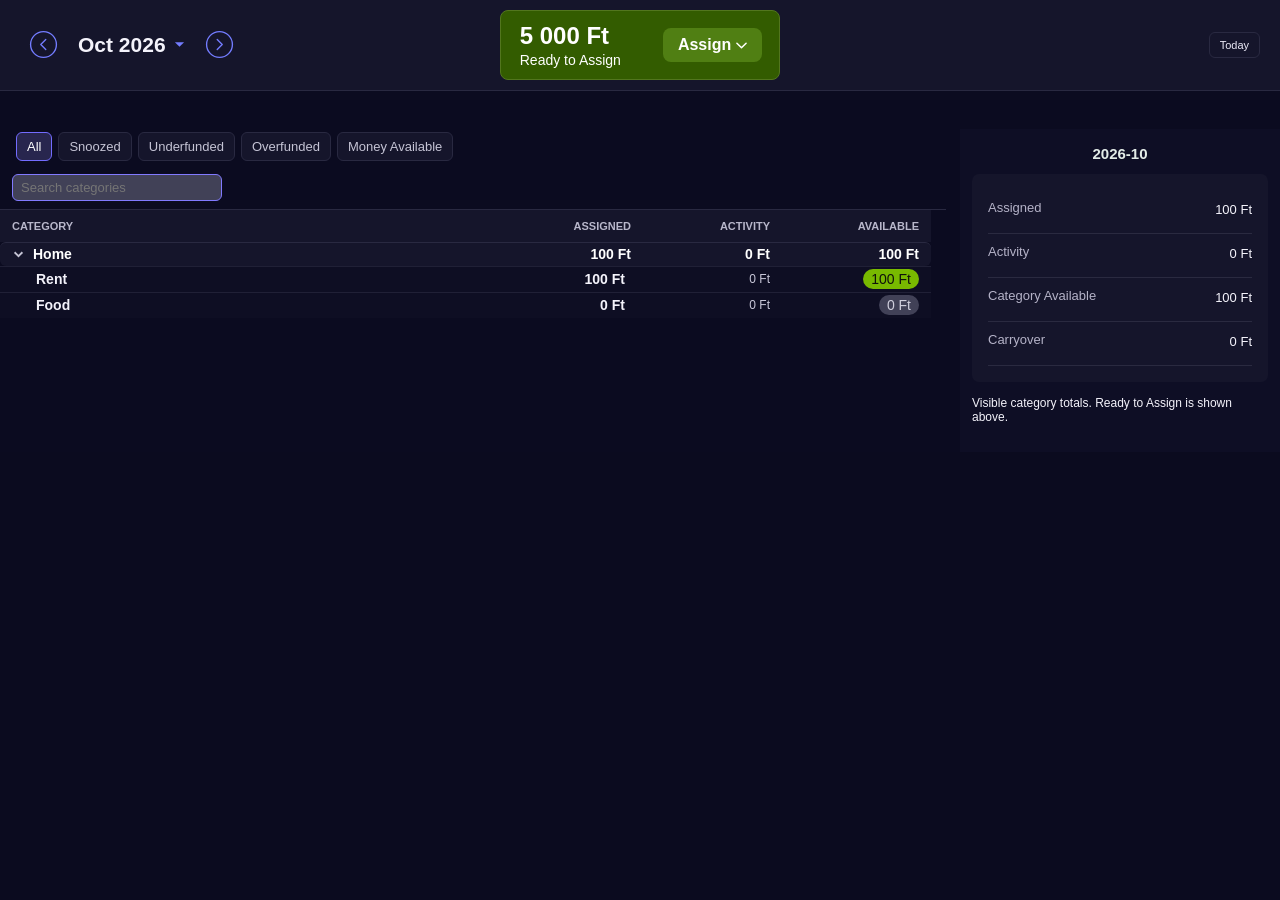
Scenario: retries a failed Plan read after a successful assignment without repeating the assignment
The width and height of the screenshot is (1280, 900).
Click the button "Assign" at (713, 45), box top-left (663, 28), bottom-right (762, 62)
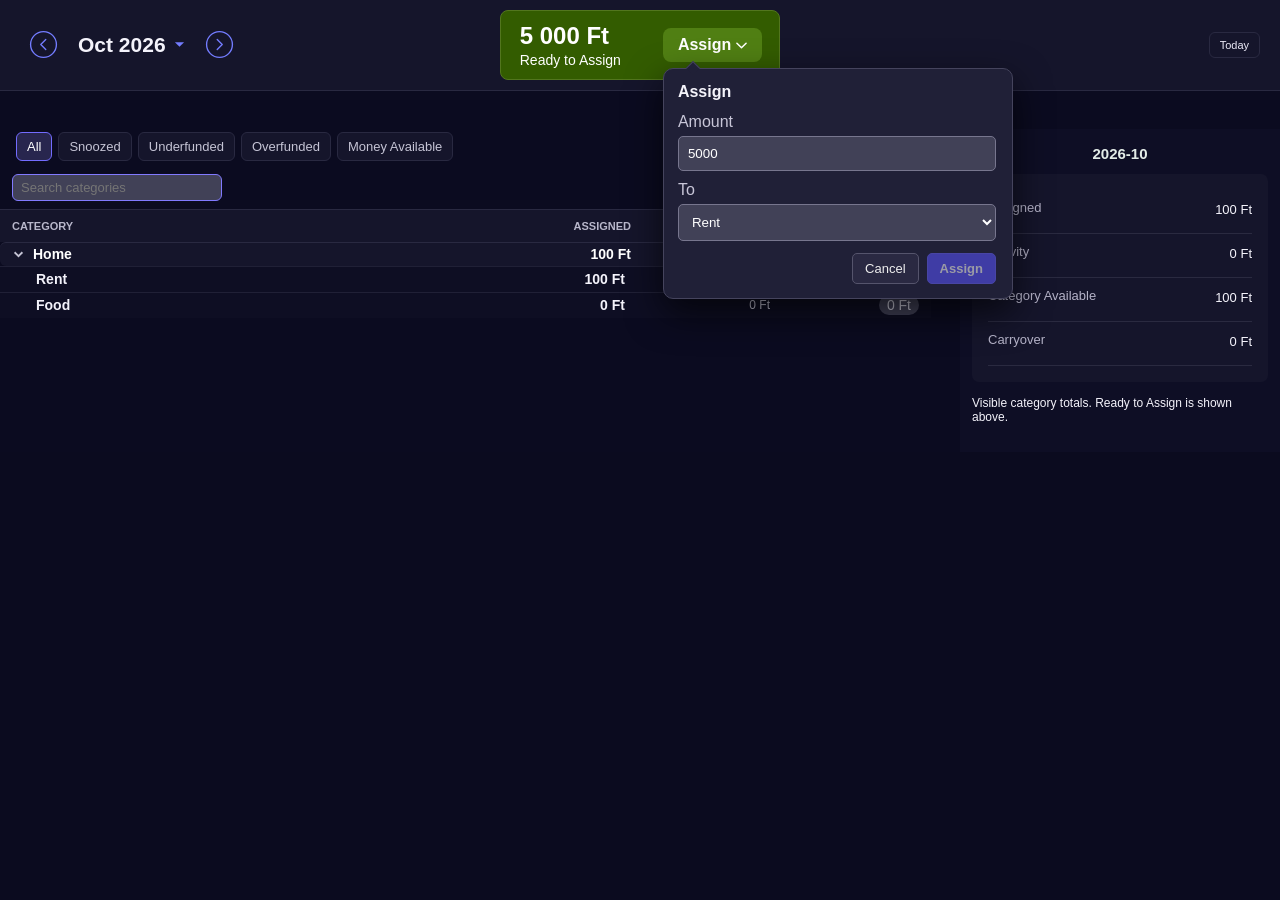
Select "Rent" in the dropdown named "Assign to category" at (837, 222), box top-left (678, 204), bottom-right (996, 241)
Select "Rent" in the dropdown named "Assign to category" at (837, 222), box top-left (678, 204), bottom-right (996, 241)
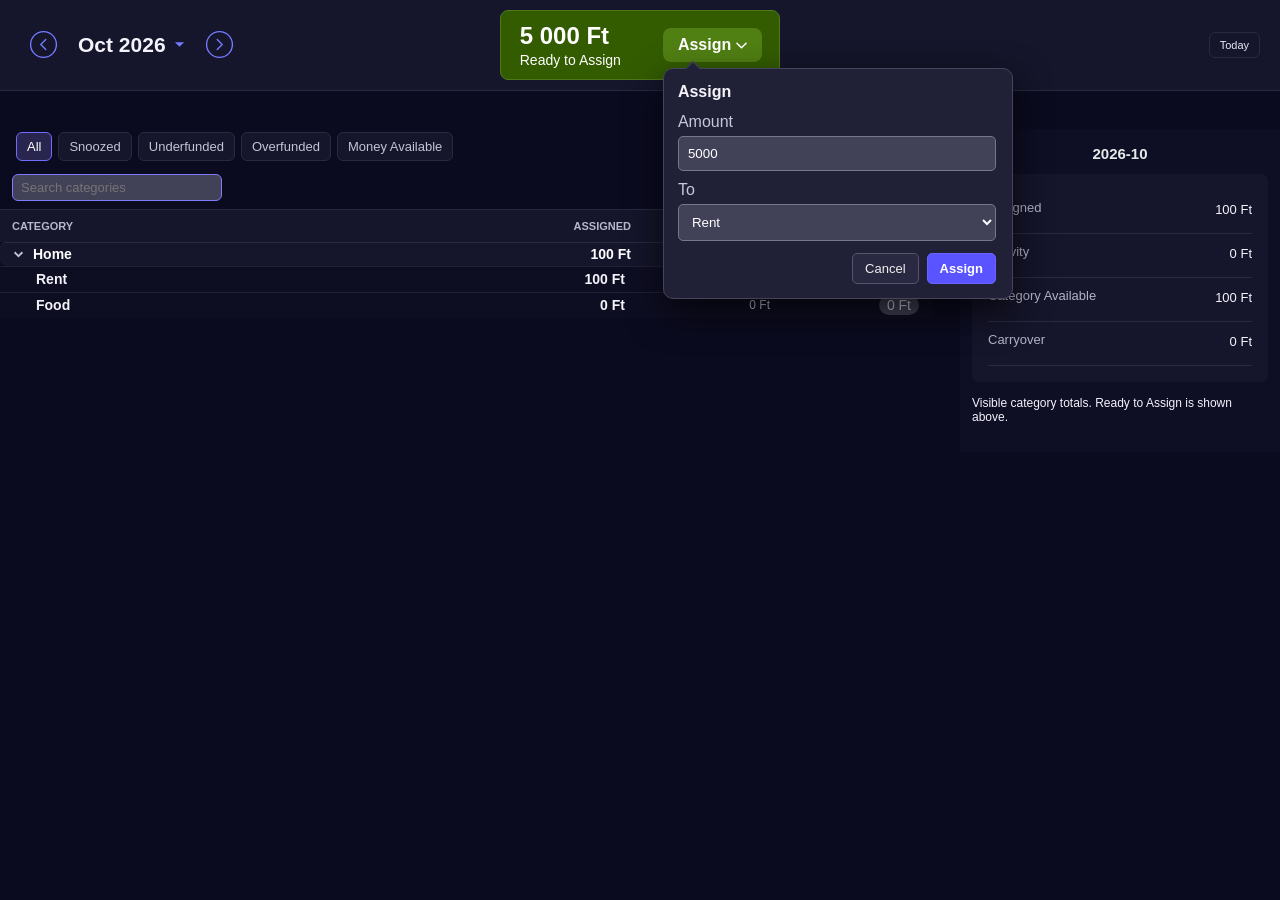
Submit the form with class "rta-assign-scroll", box top-left (678, 113), bottom-right (998, 284)
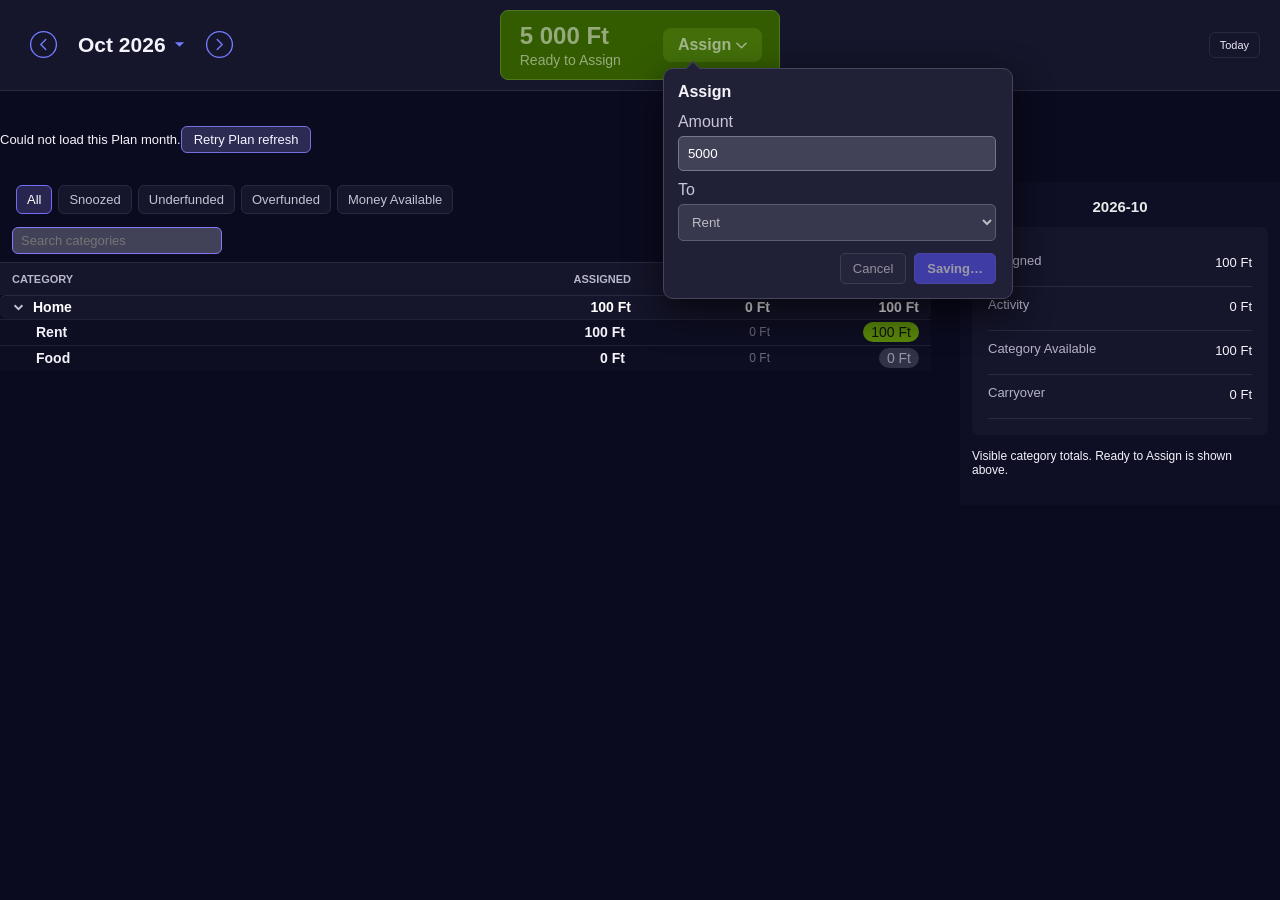
Result: the dialog with class "rta-assign-popup" is shown at top-left (663, 68), bottom-right (1013, 299)
Result: the submit button is disabled at top-left (914, 253), bottom-right (996, 284)
Result: the message with class "editor-error" shows "Could not load this Plan month" at top-left (0, 132), bottom-right (181, 147)
Click the button "Retry Plan refresh" at (246, 139), box top-left (181, 126), bottom-right (312, 153)
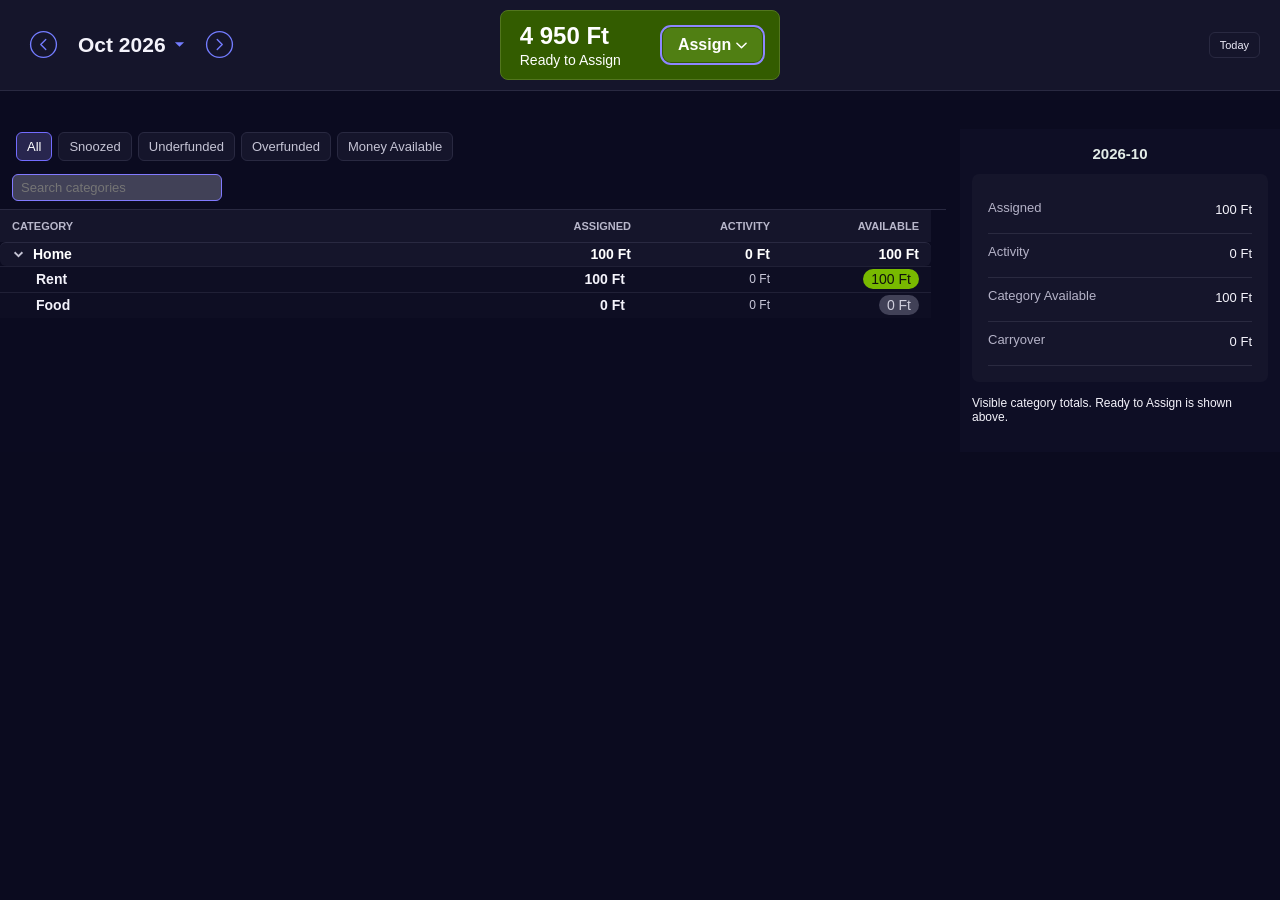
Result: the dialog with class "rta-assign-popup" is gone
